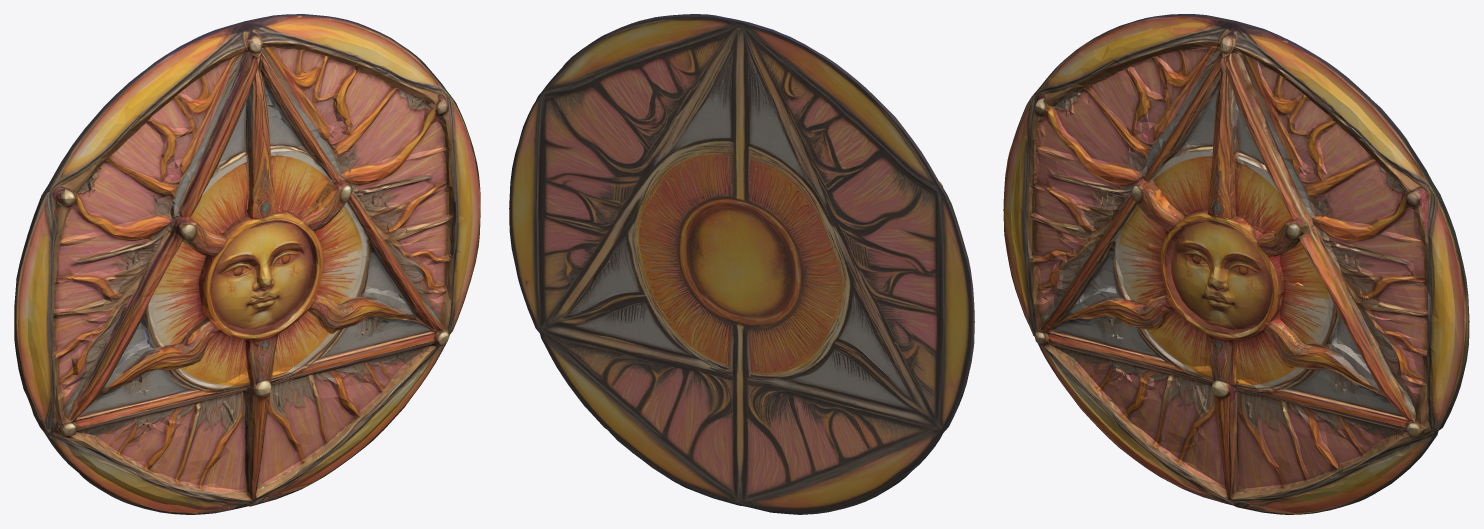
The model's file is Celestial_Emblem.fbx.
The picture shows the model from 3 angles, left to right: view 1: azimuth 30°, elevation 25°; view 2: azimuth 150°, elevation 25°; view 3: azimuth 330°, elevation 25°; orthographic projection.
Visible parts, largest first — view 1: temp; view 2: temp; view 3: temp.
Part boxes in pixels (x1,y1,x2,y2): temp: (14, 14, 480, 514); temp: (509, 14, 974, 514); temp: (1003, 14, 1469, 514).
Size of the model in its own units: 200 by 199 by 17.23.
Materials: 1 (1 with a texture image).
